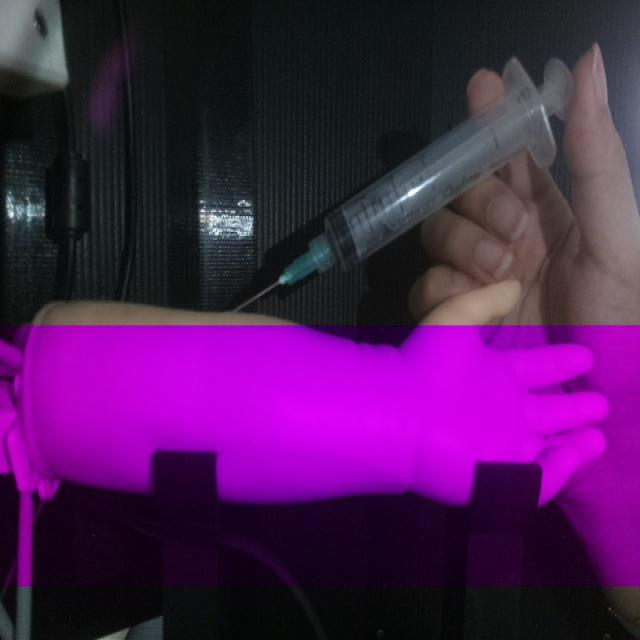Outside: (228, 52, 576, 313)
